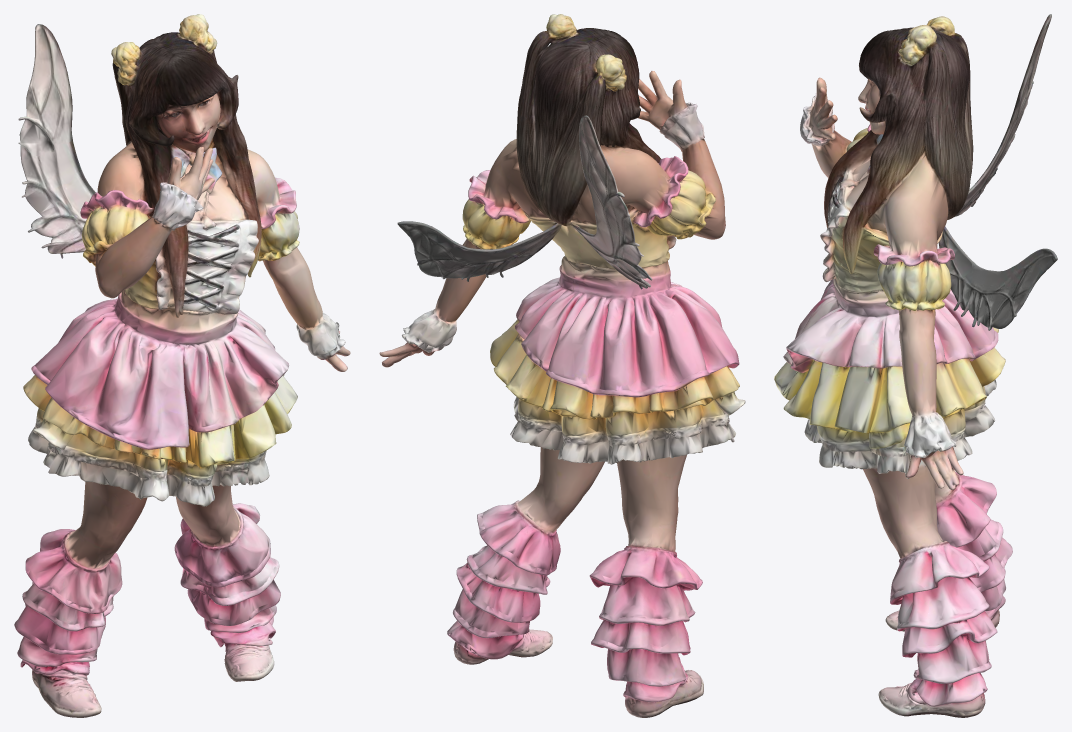
Rendered from fairy-web-BTB1SMaT.glb.
The picture shows the model from 3 angles, left to right: view 1: azimuth 30°, elevation 25°; view 2: azimuth 150°, elevation 25°; view 3: azimuth 270°, elevation 25°; orthographic projection.
Parts seen in each view (by area): view 1: tripo_node_6118e48e-d25a-4936-ab70-86b9685ad2e7; view 2: tripo_node_6118e48e-d25a-4936-ab70-86b9685ad2e7; view 3: tripo_node_6118e48e-d25a-4936-ab70-86b9685ad2e7.
Part boxes in pixels (bbox=[...]): tripo_node_6118e48e-d25a-4936-ab70-86b9685ad2e7: bbox=[14, 14, 350, 717]; tripo_node_6118e48e-d25a-4936-ab70-86b9685ad2e7: bbox=[379, 14, 745, 717]; tripo_node_6118e48e-d25a-4936-ab70-86b9685ad2e7: bbox=[774, 14, 1057, 717].
Bounding box in the file's own units: 0.5249 × 0.979 × 0.3808.
Materials: 1 (1 with a texture image).
